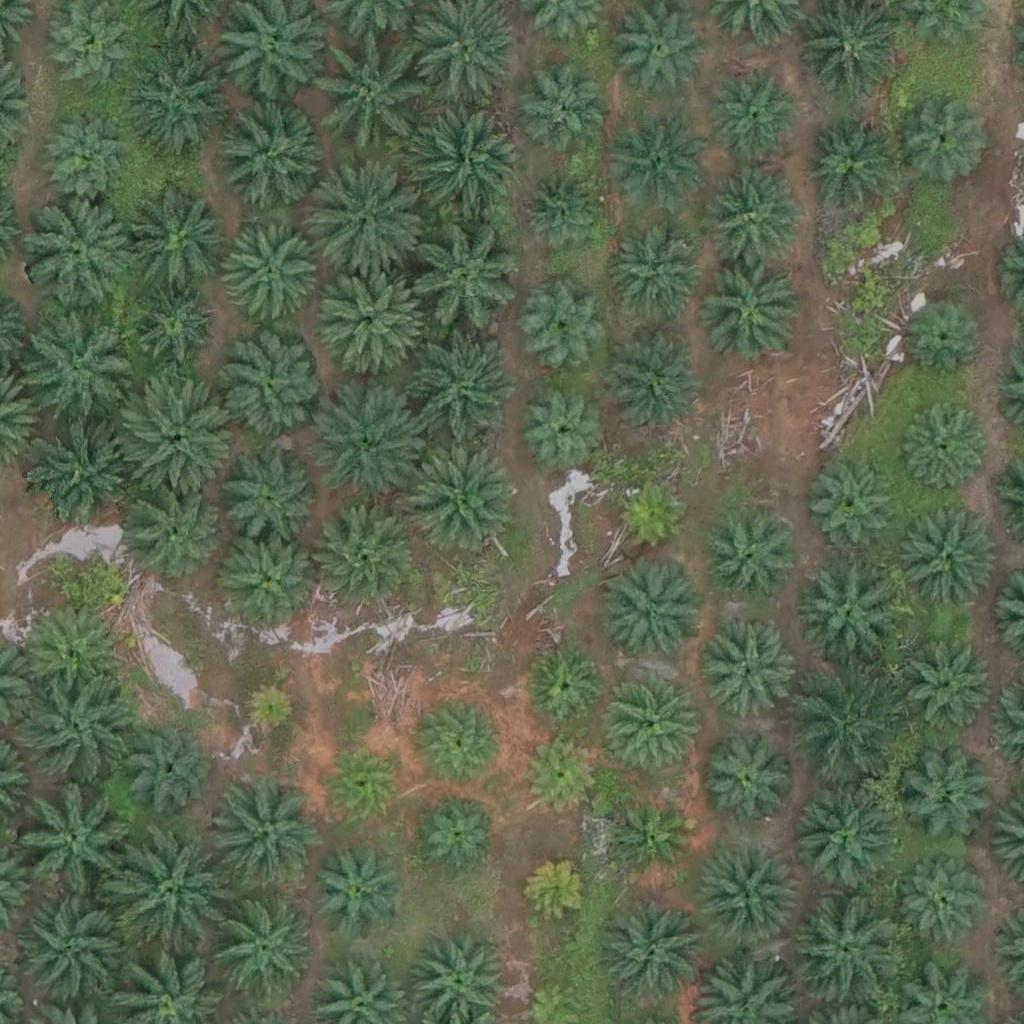Kelapa_Sawit: (596, 892, 709, 1006), (314, 168, 427, 282), (792, 890, 905, 1003), (15, 893, 128, 1006), (790, 554, 903, 667), (791, 677, 904, 790), (408, 109, 521, 222), (401, 225, 514, 338), (16, 299, 129, 412), (29, 416, 142, 529), (112, 840, 225, 953), (18, 789, 131, 902), (400, 340, 512, 454), (404, 444, 516, 558), (306, 501, 418, 615), (19, 197, 131, 311), (314, 390, 426, 503), (314, 263, 426, 376), (321, 38, 433, 151), (206, 99, 318, 212), (124, 47, 236, 160), (121, 187, 233, 300), (121, 375, 233, 488), (209, 776, 321, 889), (24, 672, 136, 785), (695, 845, 795, 946), (303, 842, 403, 943), (216, 898, 316, 999), (897, 744, 997, 845), (704, 171, 804, 272), (700, 263, 800, 364), (701, 503, 801, 604), (701, 613, 801, 714), (694, 736, 794, 837), (605, 219, 705, 320), (606, 328, 706, 429), (599, 565, 699, 666), (598, 673, 698, 774), (220, 225, 320, 326), (220, 337, 320, 438), (222, 446, 322, 547), (117, 485, 217, 586), (23, 602, 123, 703), (891, 850, 991, 950), (799, 787, 899, 887), (901, 630, 1001, 730), (900, 506, 1000, 606), (607, 122, 707, 222), (222, 532, 322, 632), (899, 397, 987, 486), (609, 469, 697, 557), (417, 697, 505, 785), (417, 789, 505, 877), (515, 729, 603, 817), (523, 640, 611, 728), (898, 100, 986, 188), (805, 460, 893, 548), (710, 67, 798, 155), (518, 385, 606, 473), (522, 277, 610, 365), (125, 283, 213, 371), (42, 113, 130, 201), (130, 722, 218, 810), (318, 739, 405, 827), (901, 295, 988, 383), (806, 123, 893, 211), (608, 789, 695, 877), (520, 169, 607, 257), (520, 64, 607, 152), (45, 3, 132, 91), (520, 851, 595, 927), (235, 680, 298, 743)
